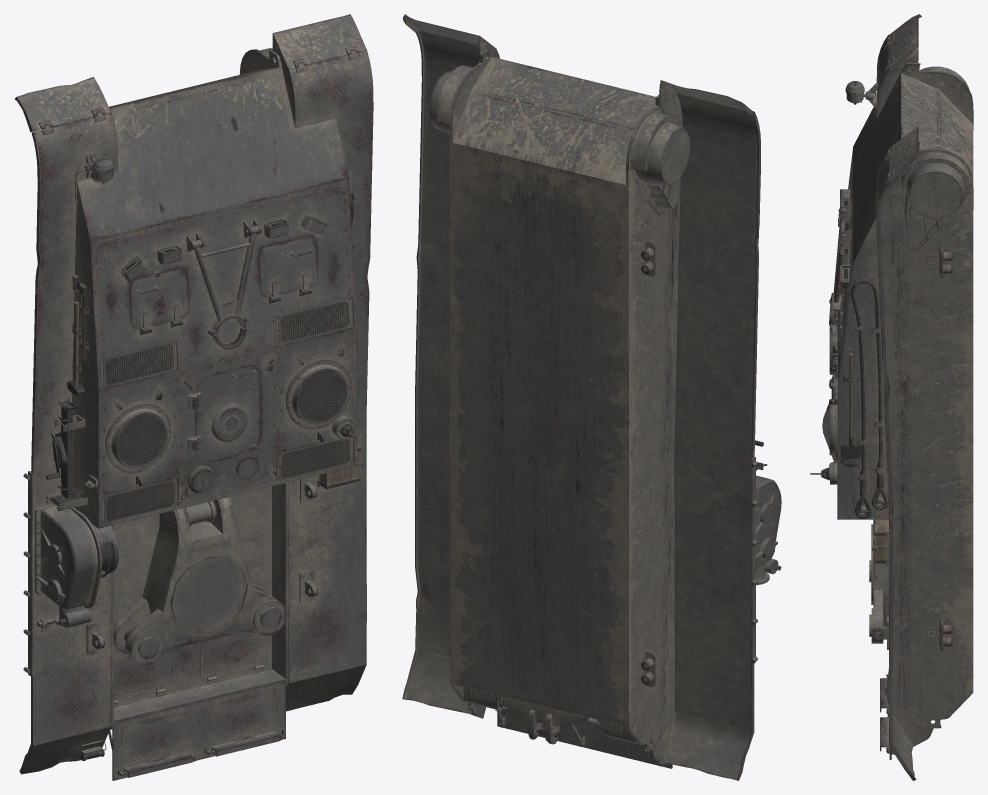
Rendered from Hull.glb.
The picture shows the model from 3 angles, left to right: view 1: azimuth 30°, elevation 25°; view 2: azimuth 150°, elevation 25°; view 3: azimuth 270°, elevation 25°; orthographic projection. The views are drawn at different scales.
Parts seen in each view (by area): view 1: set_0_group_0; view 2: set_0_group_0; view 3: set_0_group_0.
Part boxes in pixels (x1,y1,x2,y2): set_0_group_0: (15, 14, 373, 780); set_0_group_0: (402, 14, 781, 780); set_0_group_0: (810, 14, 973, 780).
Size of the model in its own units: 3.15 by 6.18 by 1.43.
1 material, 1 textured.
